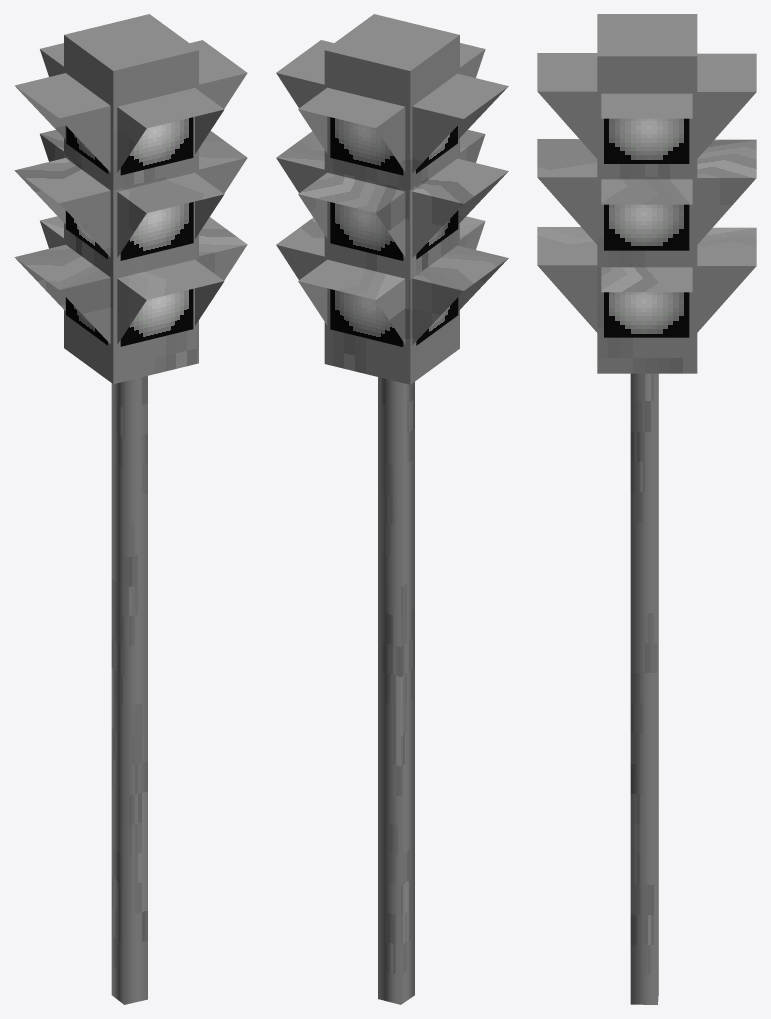
The model's file is TrafficLight.FBX.
The picture shows the model from 3 angles, left to right: view 1: azimuth 30°, elevation 25°; view 2: azimuth 150°, elevation 25°; view 3: azimuth 270°, elevation 25°; orthographic projection.
Visible parts, largest first — view 1: Cylinder01, Plane02, Plane01, Plane03; view 2: Cylinder01, Plane05, Plane04, Plane06, Plane11; view 3: Cylinder01, Plane08, Plane09, Plane07.
Part boxes in pixels (<box>): Cylinder01: <box>14,14,247,1004</box>; Plane02: <box>120,202,193,260</box>; Plane01: <box>120,117,193,175</box>; Plane03: <box>120,289,193,346</box>; Cylinder01: <box>276,14,508,1004</box>; Plane05: <box>330,202,403,260</box>; Plane04: <box>330,117,403,175</box>; Plane06: <box>330,289,403,346</box>; Plane11: <box>416,210,458,259</box>; Cylinder01: <box>537,14,756,1004</box>; Plane08: <box>604,204,689,250</box>; Plane09: <box>604,292,689,337</box>; Plane07: <box>604,118,689,163</box>.
Bounding box in the file's own units: 151 × 730 × 150.
